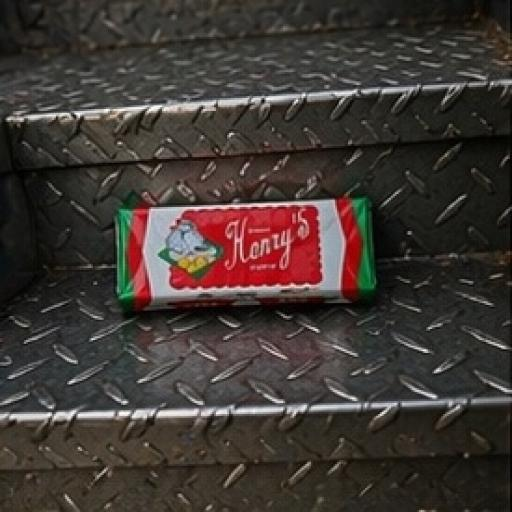henry-s: (81, 150, 414, 344)
